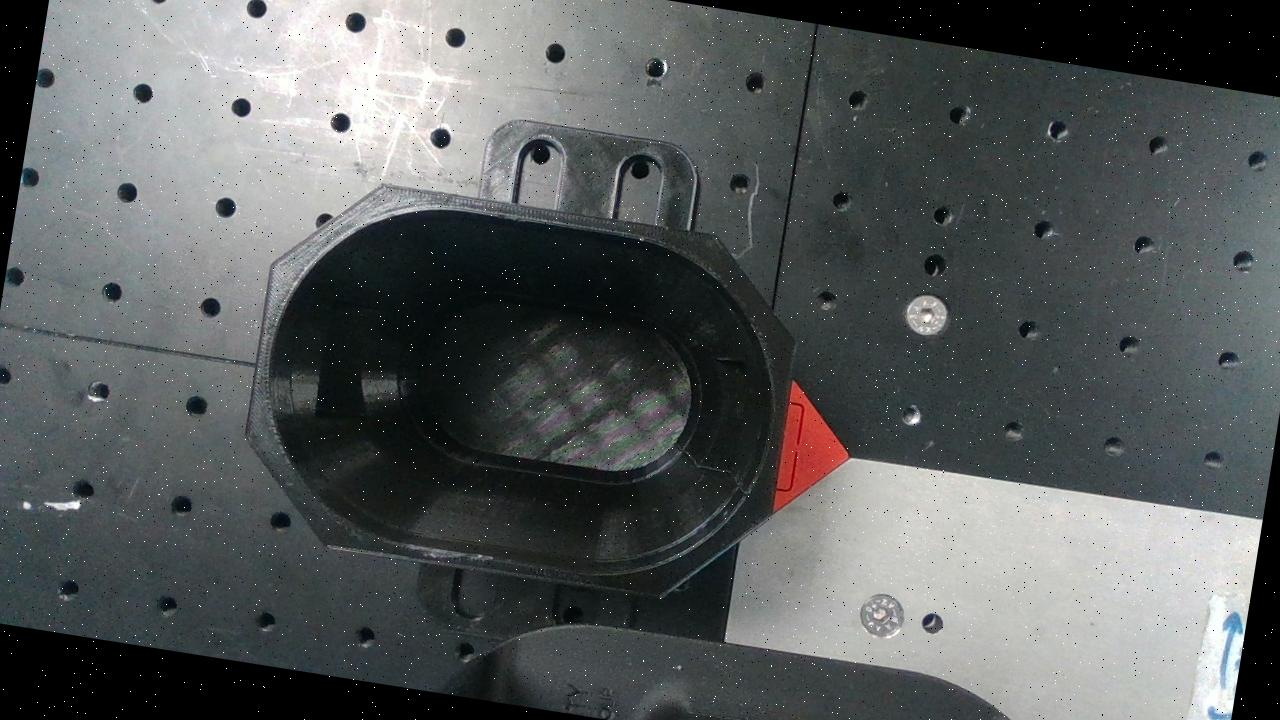small_interface: (228, 167, 815, 618)
